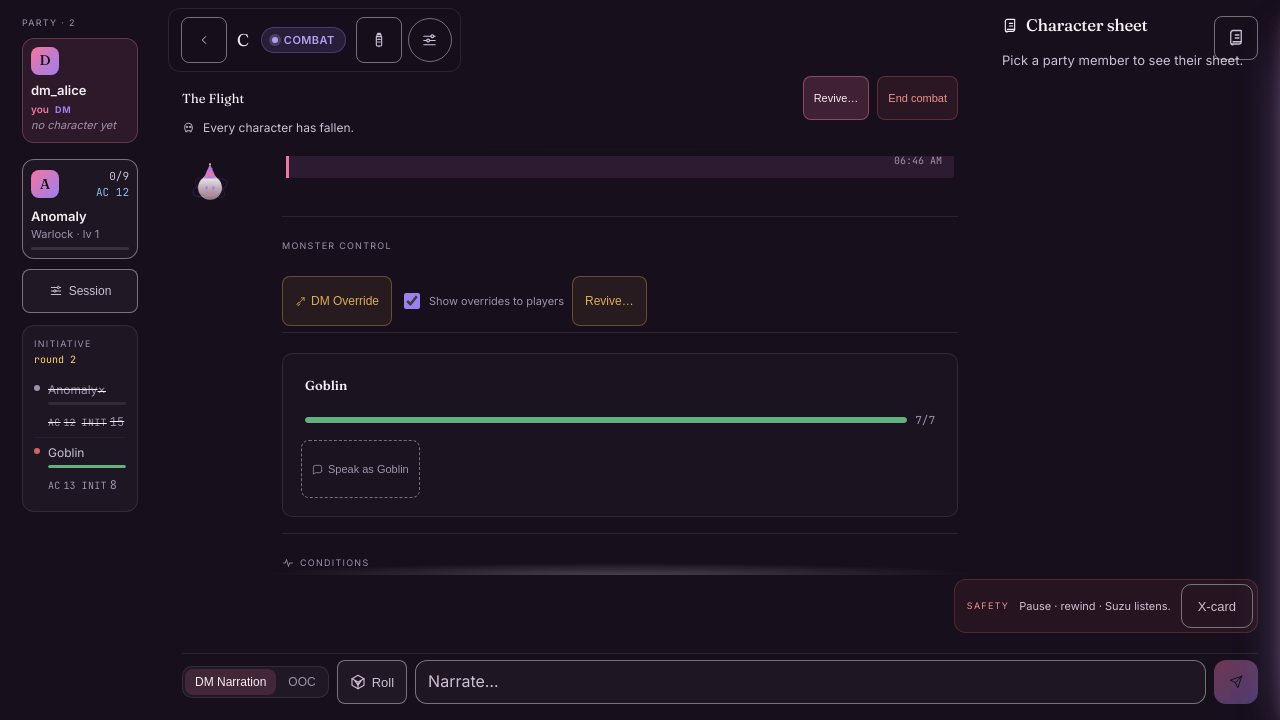
Test case: R4-2 (Tora MINOR-A): a 200 whose answer carries no state closes the confirm, and a second press cannot send a second /end › endCombat resolves with no `state`: the confirm is closed, exactly one request
(page scrolled)
Expected: the text "Every character has fallen." is shown, [182,120,354,135]
Click the button "End combat" at (918, 98), box [877,76,958,120]
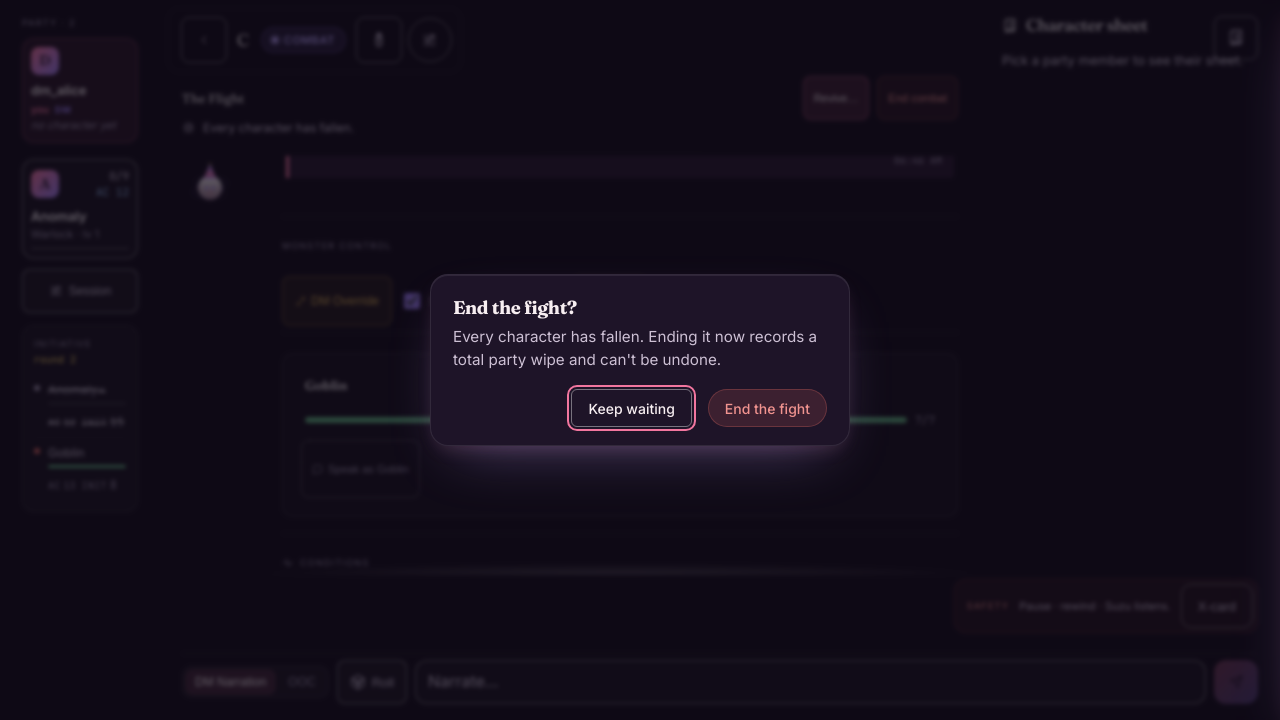
Click the button "End the fight" at (767, 408), box [708,389,827,427]
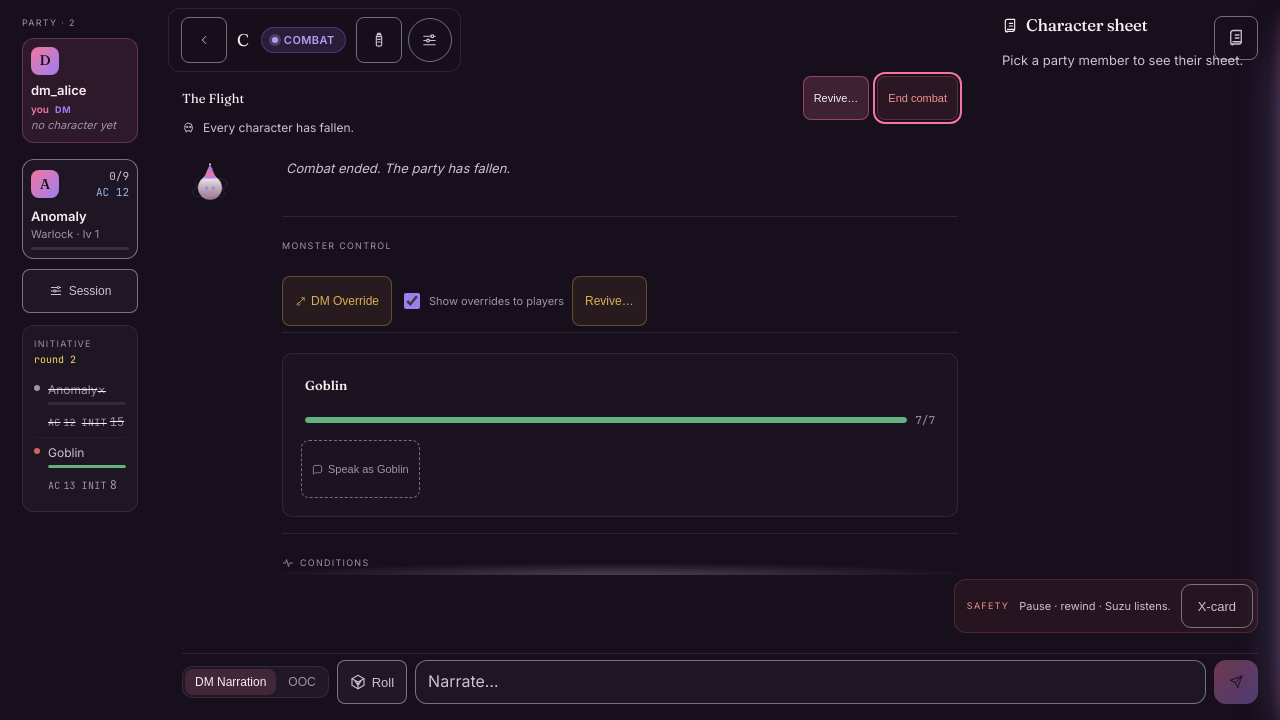
Result: the heading "End the fight?" is gone
